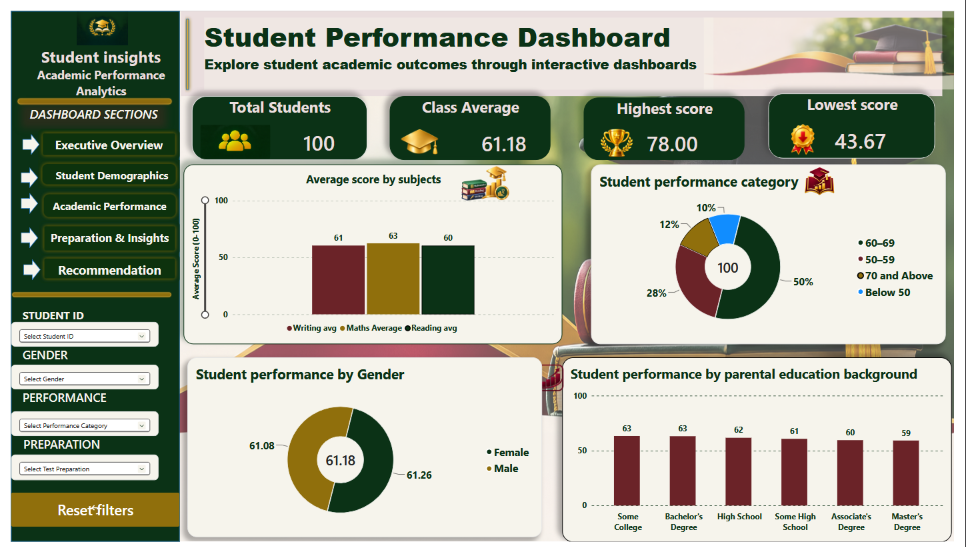

What the dashboard file says about the page in this screenshot:
{"tool":"powerbi","page":{"name":"Executive Overview","canvas":[1920,1080],"ordinal":0},"visuals":[{"type":"shape","box":[0,0,342.5,1080],"z":0},{"type":"shape","box":[346.5,0,1550,172.5],"z":1000},{"type":"image","box":[1410,12.5,510,147.5],"z":2000},{"type":"shape","box":[347.5,7.5,22.5,160],"z":3000},{"type":"textbox","box":[392.5,12.5,1037.5,147.5],"z":4000},{"type":"textbox","box":[22.5,70,320,145],"z":5000},{"type":"shape","box":[10,175,320,17.5],"z":6000},{"type":"cardVisual","title":"Total Students","fields":{"Data":["Sheet1.Total students"]},"box":[368.4,173.2,356.2,129.3],"z":7000},{"type":"image","box":[0,0,370,70],"z":8000},{"type":"cardVisual","title":"Class Average","fields":{"Data":["Sheet1.Class Average"]},"box":[771,173.2,326.9,129.3],"z":9000},{"type":"cardVisual","title":"Highest score","fields":{"Data":["Sheet1.Highest Score"]},"box":[1166.2,175.7,326.9,126.9],"z":10000},{"type":"cardVisual","title":"Lowest score","fields":{"Data":["Sheet1.Lowest score"]},"box":[1542,168.3,339.1,131.8],"z":11000},{"type":"clusteredColumnChart","title":"Average score by subjects","fields":{"Y":["Sheet1.Writing avg","Sheet1.Maths Average","Sheet1.Reading avg"]},"box":[351.3,312.3,771,366],"z":12000},{"type":"image","box":[910.1,312.3,112.2,78.1],"z":13000},{"type":"donutChart","title":"Student performance category","fields":{"Category":["Sheet1.Performance Category"],"Y":["CountNonNull(Sheet1.Student ID)"]},"box":[1180.9,312.3,722.2,366],"z":14000},{"type":"image","box":[1578.6,300.1,134.2,90.3],"z":15000},{"type":"clusteredColumnChart","title":"Student performance by parental education background","fields":{"Category":["Sheet1.Parental Education"],"Y":["Sheet1.Average Score by Parental Education"]},"box":[1122.3,705.1,792.9,375.7],"z":16000},{"type":"image","box":[1041.8,705.1,112.2,80.5],"z":17000},{"type":"textbox","box":[22.5,192.5,290,42.5],"z":18000},{"type":"actionButton","box":[55,302.5,287.9,58.6],"z":19000},{"type":"actionButton","box":[55,240,287.5,62.5],"z":20000},{"type":"actionButton","box":[57.5,365,285.5,63.4],"z":21000},{"type":"actionButton","box":[57.5,427.5,285.5,68.3],"z":22000},{"type":"donutChart","title":"Student performance by Gender ","fields":{"Category":["Sheet1.Gender"],"Y":["Sheet1.Class Average"]},"box":[358.7,705.1,722.2,366],"z":22001},{"type":"actionButton","box":[57.5,495,285,57.5],"z":22002},{"type":"listSlicer","fields":{"Values":["Sheet1.Student ID"]},"box":[0,632.5,300,50],"z":22003},{"type":"textbox","box":[22.5,605,225,27.5],"z":22004},{"type":"shape","box":[0,570,327.5,15],"z":22005},{"type":"shape","box":[22.5,250,35,42.5],"z":22006},{"type":"shape","box":[20,317.5,35,42.5],"z":22007},{"type":"shape","box":[20,370,35,42.5],"z":22008},{"type":"shape","box":[20,440,35,42.5],"z":22009},{"type":"shape","box":[25,505,35,42.5],"z":22010},{"type":"listSlicer","fields":{"Values":["Sheet1.Gender"]},"box":[0,720,300,50],"z":22011},{"type":"textbox","box":[22.5,682.5,290,55],"z":22012},{"type":"listSlicer","fields":{"Values":["Sheet1.Performance Category"]},"box":[0,815,300,50],"z":22013},{"type":"listSlicer","fields":{"Values":["Sheet1.Test Preparation"]},"box":[0,902.5,300,52.5],"z":22014},{"type":"textbox","box":[22.5,770,377.5,45],"z":22015},{"type":"textbox","box":[25,865,375,72.5],"z":22016},{"type":"actionButton","box":[0,980,342.5,70],"z":22017}]}

Visuals, with their boxes in screenshot pixels (x1, y1, x2, y2), scaled from the page's 1920x1080 canvas onto the 966x547 screenshot:
shape: (0, 0, 172, 546)
shape: (174, 0, 954, 87)
image: (709, 6, 965, 81)
shape: (175, 4, 186, 85)
textbox: (197, 6, 719, 81)
textbox: (11, 35, 172, 109)
shape: (5, 89, 166, 97)
"Total Students" cardVisual: (185, 88, 365, 153)
image: (0, 0, 186, 35)
"Class Average" cardVisual: (388, 88, 552, 153)
"Highest score" cardVisual: (587, 89, 751, 153)
"Lowest score" cardVisual: (776, 85, 946, 152)
"Average score by subjects" clusteredColumnChart: (177, 158, 565, 344)
image: (458, 158, 514, 198)
"Student performance category" donutChart: (594, 158, 957, 344)
image: (794, 152, 862, 198)
"Student performance by parental education background" clusteredColumnChart: (565, 357, 964, 546)
image: (524, 357, 581, 398)
textbox: (11, 97, 157, 119)
actionButton: (28, 153, 173, 183)
actionButton: (28, 122, 172, 153)
actionButton: (29, 185, 173, 217)
actionButton: (29, 217, 173, 251)
"Student performance by Gender " donutChart: (180, 357, 544, 542)
actionButton: (29, 251, 172, 280)
listSlicer - Sheet1.Student ID: (0, 320, 151, 346)
textbox: (11, 306, 125, 320)
shape: (0, 289, 165, 296)
shape: (11, 127, 29, 148)
shape: (10, 161, 28, 182)
shape: (10, 187, 28, 209)
shape: (10, 223, 28, 244)
shape: (13, 256, 30, 277)
listSlicer - Sheet1.Gender: (0, 365, 151, 390)
textbox: (11, 346, 157, 374)
listSlicer - Sheet1.Performance Category: (0, 413, 151, 438)
listSlicer - Sheet1.Test Preparation: (0, 457, 151, 484)
textbox: (11, 390, 201, 413)
textbox: (13, 438, 201, 475)
actionButton: (0, 496, 172, 532)
